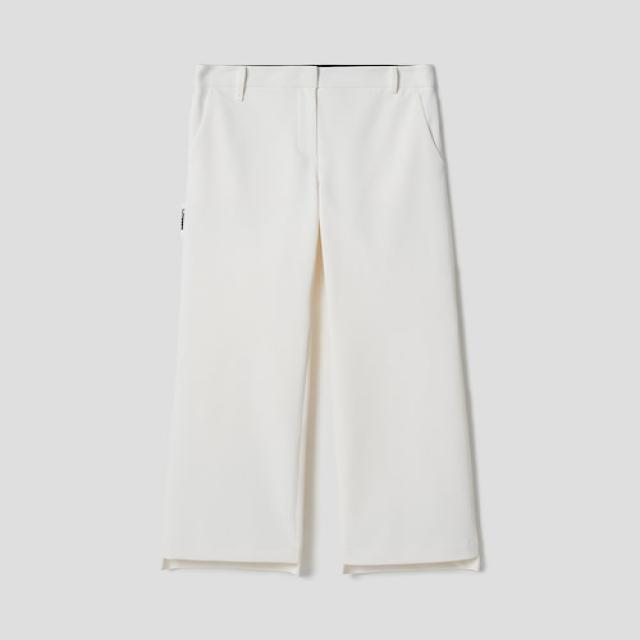long-pants: (159, 64, 488, 582)
